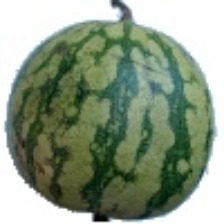watermelon: (42, 17, 219, 184)
